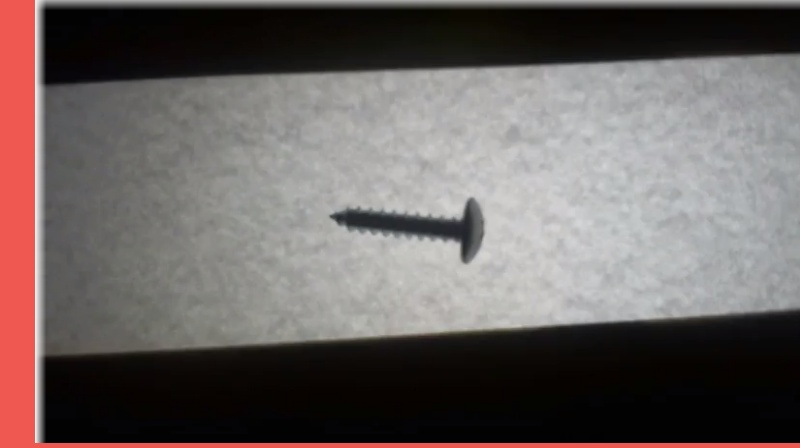S003: (325, 189, 487, 266)
